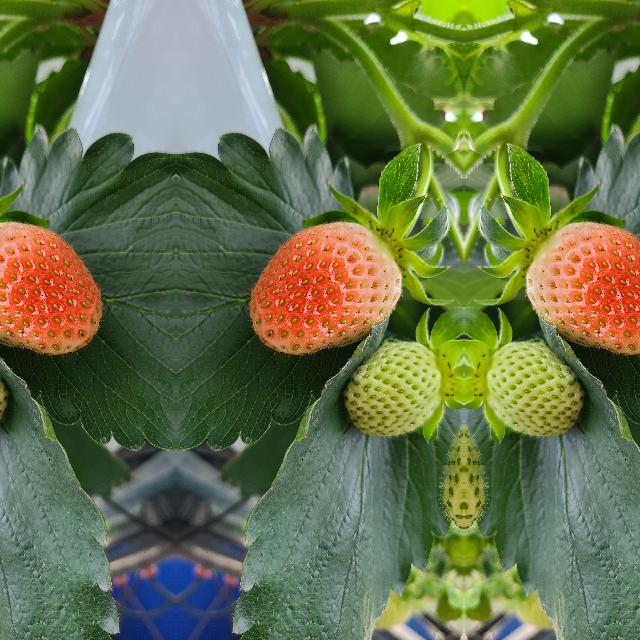Health_25: (342, 328, 454, 440), (472, 328, 584, 440)
Health_75: (249, 222, 401, 354), (525, 221, 640, 354), (0, 221, 101, 354)
